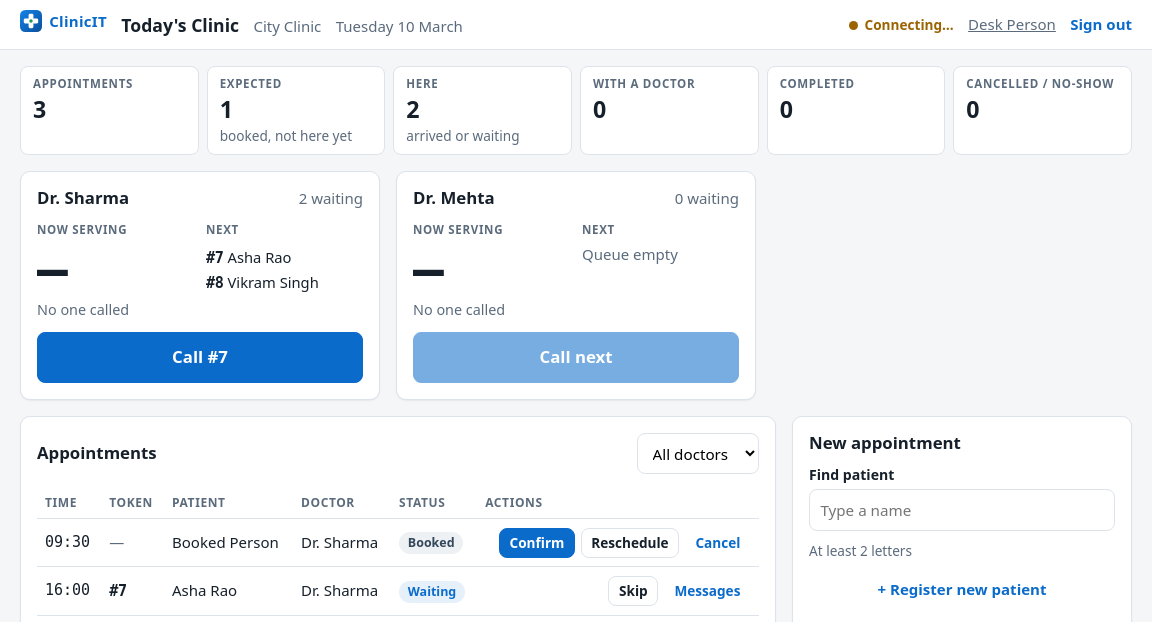
it: ReceptionConsole › explains a forbidden action instead of failing silently
Check: the text "Today's Clinic" is shown, box [121,13,239,39]
Check: the element named "Queue for Dr. Sharma" shows "#7", box [37,332,363,383]
What coordinates should you click on to do the following:
click the button with aria-label "Confirm: Booked Person"
I would click on:
 (537, 543)
Its box is [499,528,575,558].
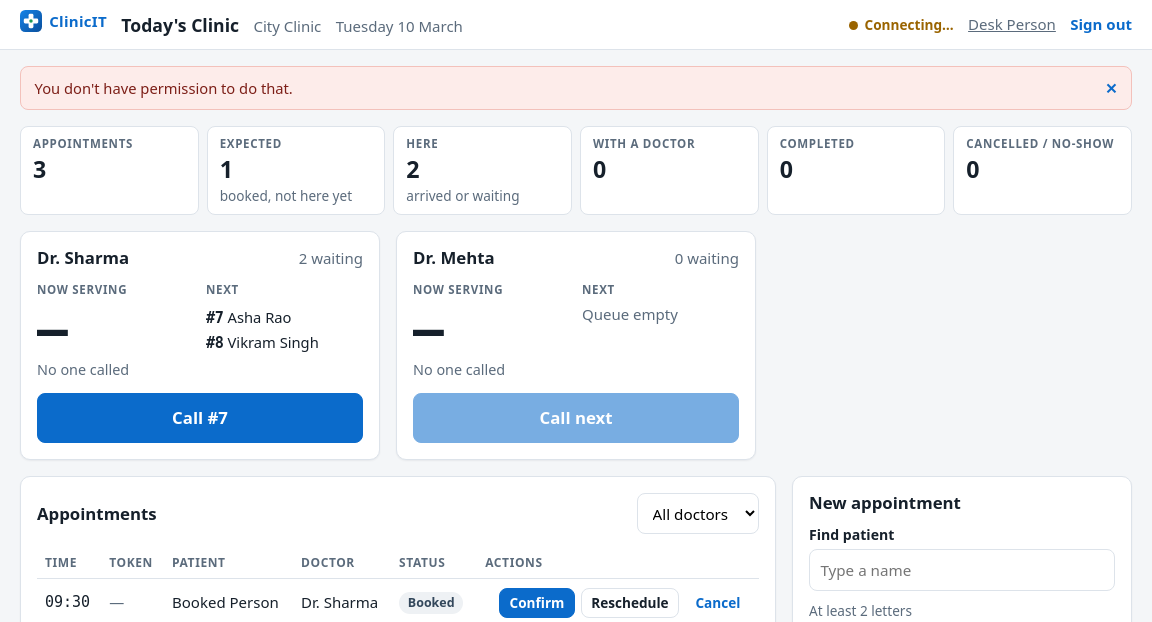
Check: the message "You don't have permission to do that. ✕" is shown, box [20,66,1132,110]
